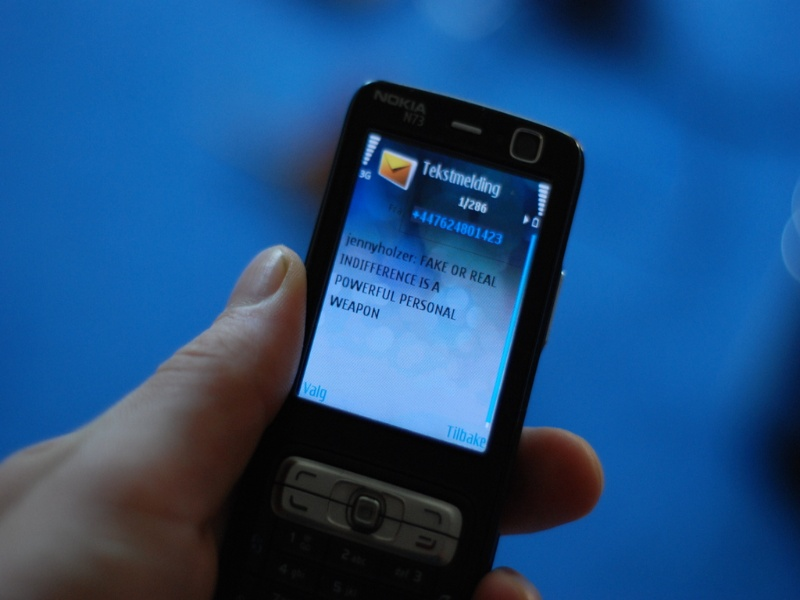cellphone: (276, 75, 589, 600)
